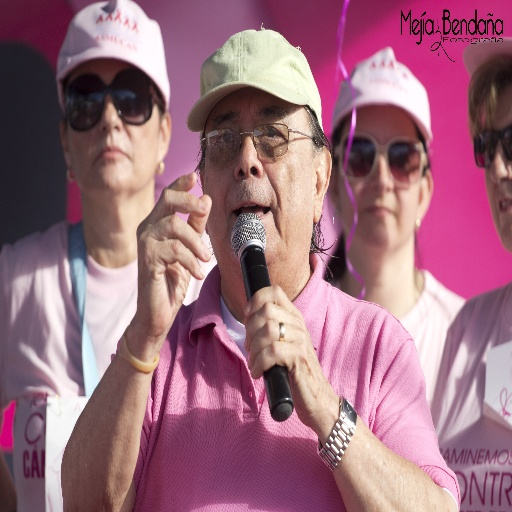hand: (134, 169, 213, 341), (241, 282, 333, 429)
